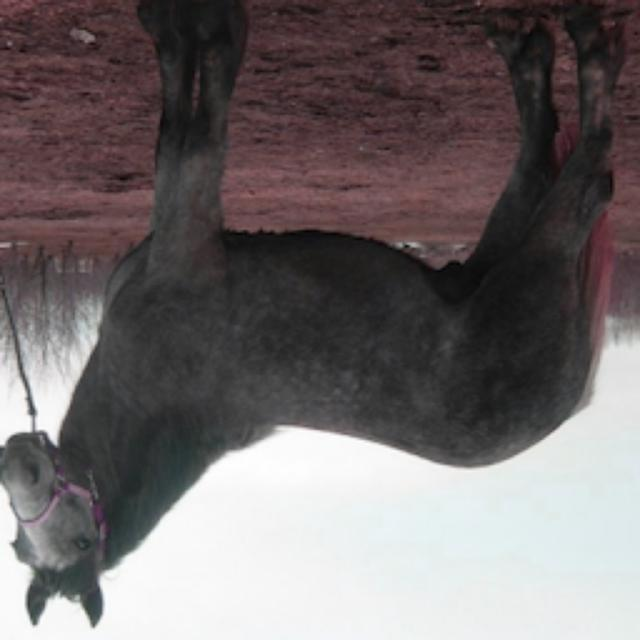Horse: (0, 2, 638, 632)
